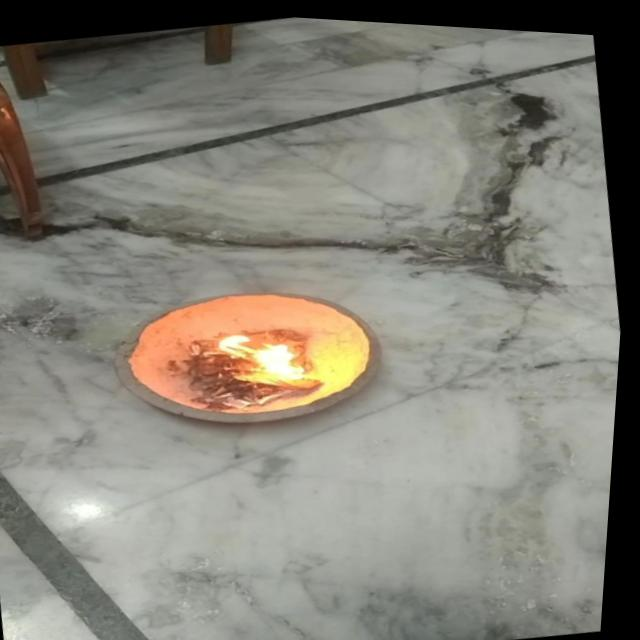fire: (205, 309, 331, 400)
